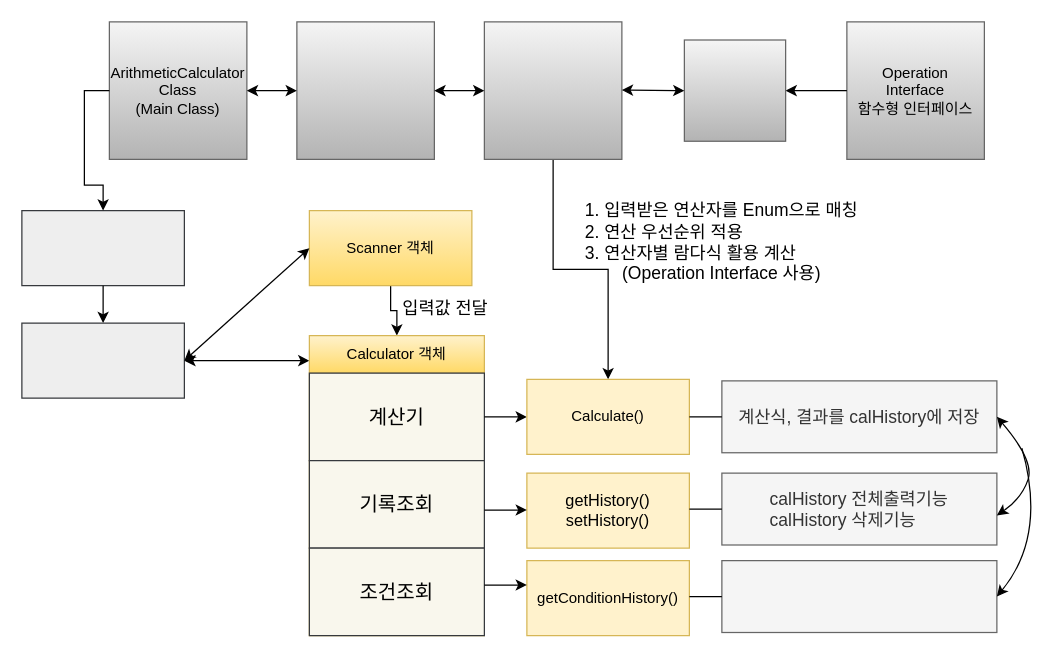
This 1054x658 diagram has some shape labels left out. The centre of each missing label's shape, as x and y in pixels:
"Calculator Class" belongs at pixel 365 90.
"calHistory 조건별 출력" belongs at pixel 859 595.
"Main 메서드 실행" belongs at pixel 102 247.
"Operator Enum 연산자처리" belongs at pixel 552 90.
"Scanner 객체 생성 Calculator 객체 생성 메뉴 선택" belongs at pixel 102 360.
"람다식 (익명 구현체)" belongs at pixel 734 90.
